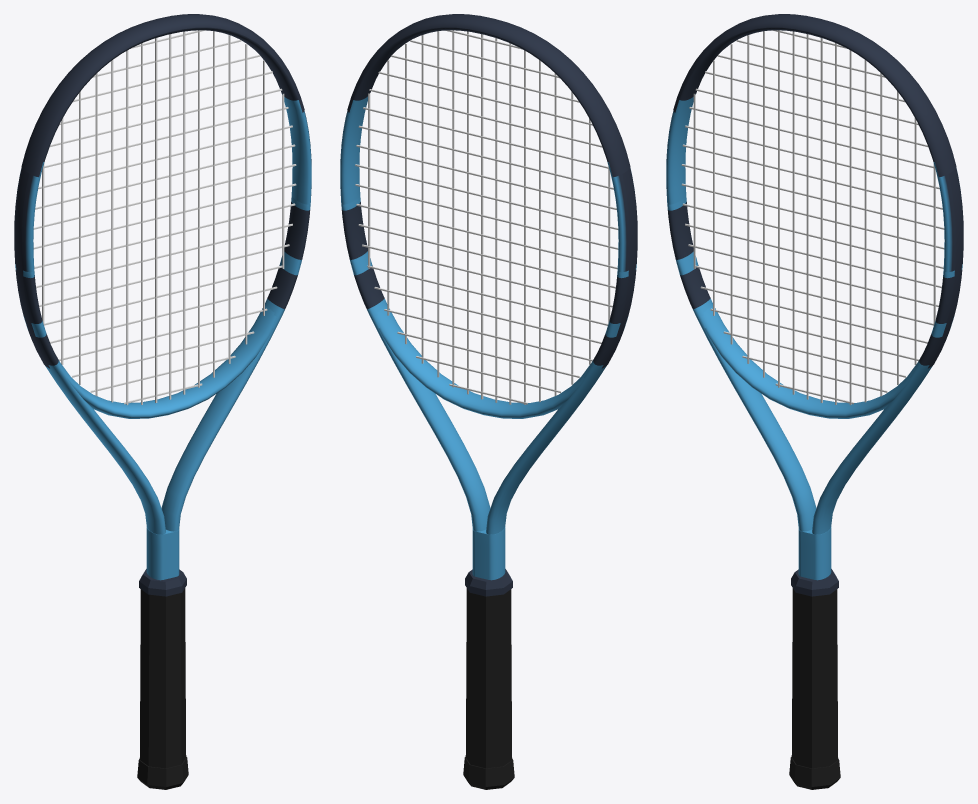
The model's file is babolat-pure-drive-107-2025.glb.
The picture shows the model from 3 angles, left to right: view 1: azimuth 30°, elevation 25°; view 2: azimuth 150°, elevation 25°; view 3: azimuth 330°, elevation 25°; orthographic projection.
Parts seen in each view (by area): view 1: frame, strings_mains, strings_crosses, grip, bumper, grommets, butt_cap, collar; view 2: frame, strings_mains, strings_crosses, grip, bumper, grommets, butt_cap, collar; view 3: frame, strings_mains, strings_crosses, grip, bumper, grommets, butt_cap, collar.
Boxes of the visible parts, x1,y1,x2,y2 form: frame: [14, 27, 311, 580]; strings_mains: [42, 30, 284, 405]; strings_crosses: [33, 30, 296, 404]; grip: [139, 588, 186, 768]; bumper: [21, 14, 304, 177]; grommets: [15, 169, 49, 368]; butt_cap: [137, 757, 188, 789]; collar: [139, 569, 186, 596]; frame: [340, 27, 637, 580]; strings_mains: [368, 30, 610, 404]; strings_crosses: [355, 30, 618, 404]; grip: [465, 588, 512, 768]; bumper: [347, 14, 630, 177]; grommets: [602, 169, 636, 368]; butt_cap: [463, 757, 514, 789]; collar: [465, 569, 512, 596]; frame: [666, 27, 963, 580]; strings_mains: [693, 30, 935, 405]; strings_crosses: [681, 30, 944, 404]; grip: [791, 588, 838, 768]; bumper: [673, 14, 956, 177]; grommets: [928, 169, 962, 368]; butt_cap: [789, 757, 840, 789]; collar: [791, 569, 838, 596].
Bounding box in the file's own units: 0.2762 × 0.6912 × 0.0396.
